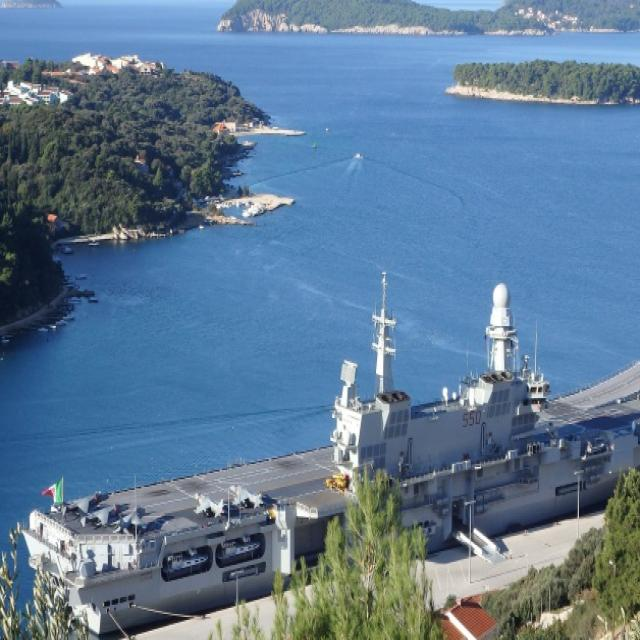Portanaves: (28, 221, 640, 640)
